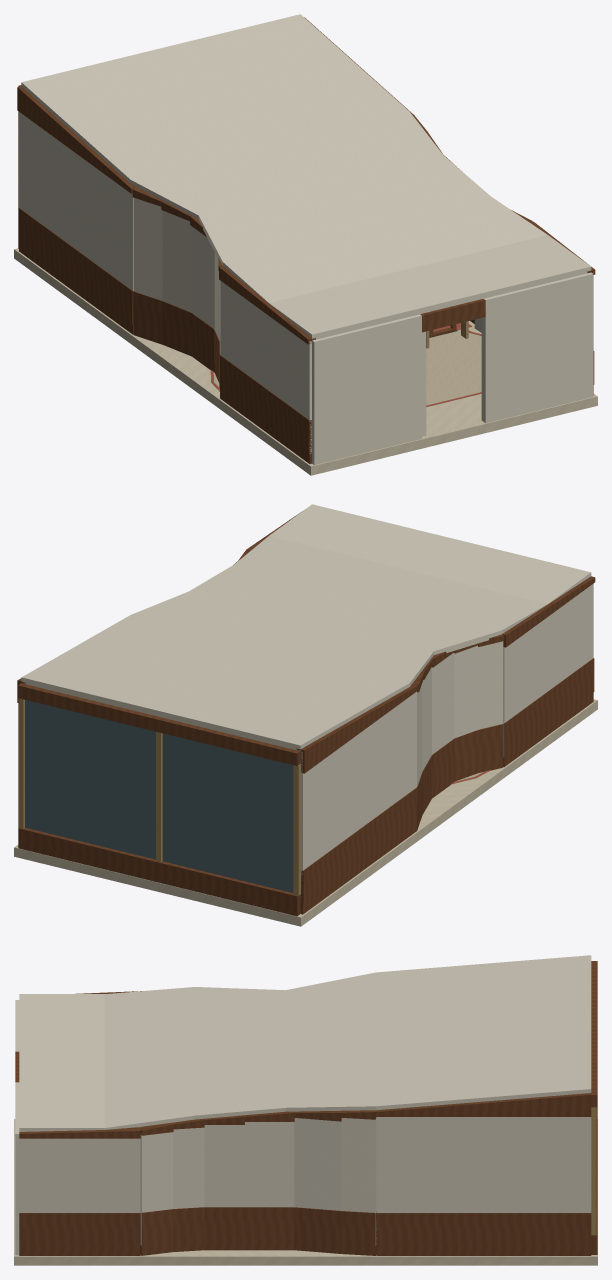
File: FAMILY_ROOM_04_r001.glb
3 renders of one model, top to bottom at view 1: azimuth 30°, elevation 25°; view 2: azimuth 150°, elevation 25°; view 3: azimuth 270°, elevation 25°, orthographic.
Parts seen in each view (by area): view 1: FamilyTerraceRoomBatch_2, FamilyTerraceRoomBatch_1, FamilyTerraceRoomBatch_0, FamilyTerraceRoomBatch_3; view 2: FamilyTerraceRoomBatch_2, FamilyTerraceRoomBatch_6, FamilyTerraceRoomBatch_1, FamilyTerraceRoomBatch_0, FamilyTerraceRoomBatch_5; view 3: FamilyTerraceRoomBatch_2, FamilyTerraceRoomBatch_1, FamilyTerraceRoomBatch_0, FamilyTerraceRoomBatch_5.
Boxes of the visible parts, x1,y1,x2,y2 form: FamilyTerraceRoomBatch_2: [19, 14, 593, 464]; FamilyTerraceRoomBatch_1: [17, 17, 595, 463]; FamilyTerraceRoomBatch_0: [14, 248, 597, 475]; FamilyTerraceRoomBatch_3: [213, 329, 481, 405]; FamilyTerraceRoomBatch_2: [21, 504, 593, 885]; FamilyTerraceRoomBatch_6: [25, 700, 293, 892]; FamilyTerraceRoomBatch_1: [17, 511, 595, 916]; FamilyTerraceRoomBatch_0: [14, 699, 597, 926]; FamilyTerraceRoomBatch_5: [18, 698, 300, 895]; FamilyTerraceRoomBatch_2: [15, 955, 591, 1254]; FamilyTerraceRoomBatch_1: [15, 961, 597, 1255]; FamilyTerraceRoomBatch_0: [14, 1119, 597, 1265]; FamilyTerraceRoomBatch_5: [591, 1107, 596, 1235].
Bounding box in the file's own units: 7.2 × 4.26 × 12.9.
48 materials, 41 textured.
